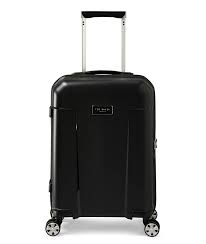suitcase: (43, 9, 162, 237)
